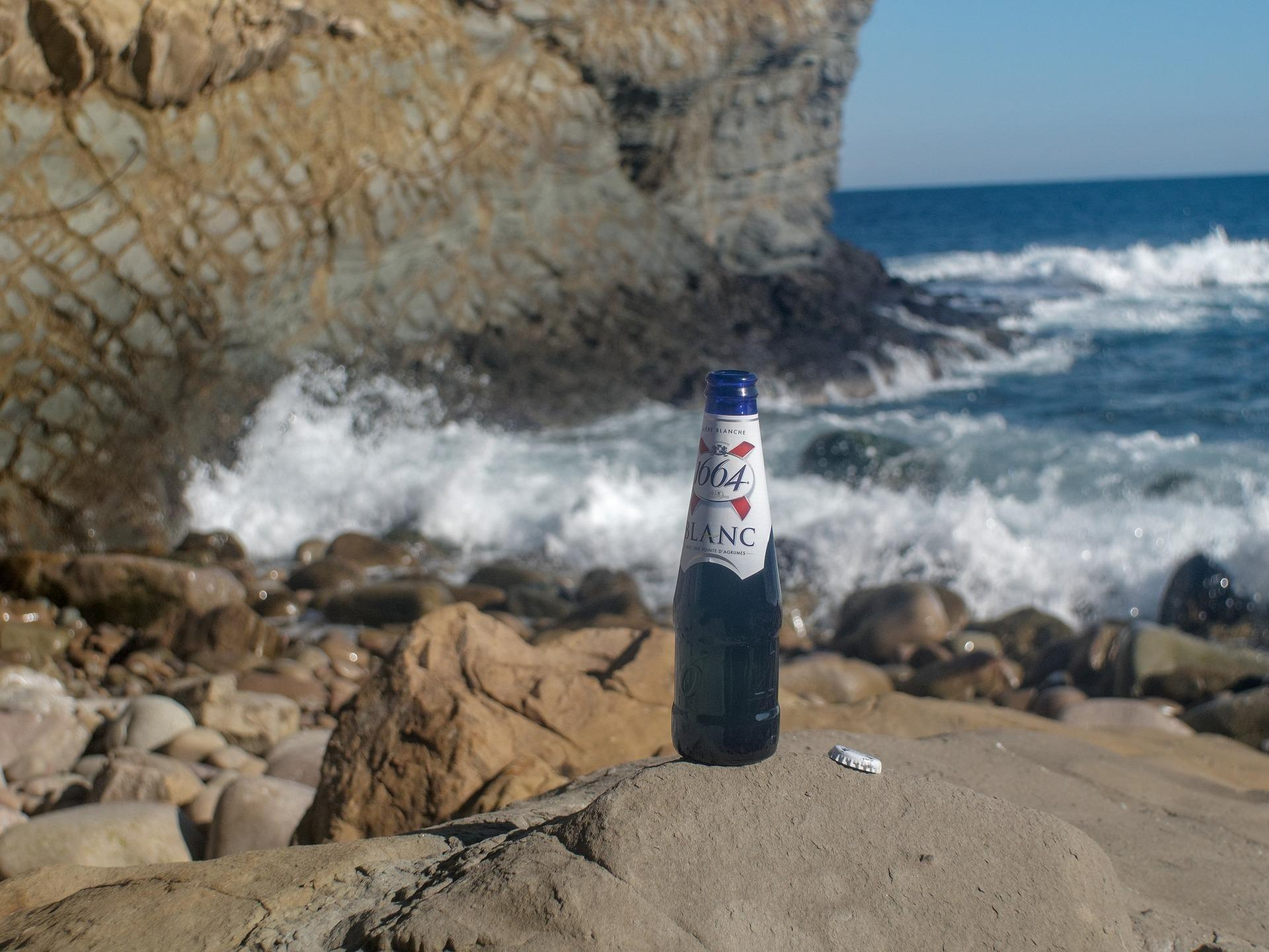bottle-glass: (666, 361, 787, 765)
